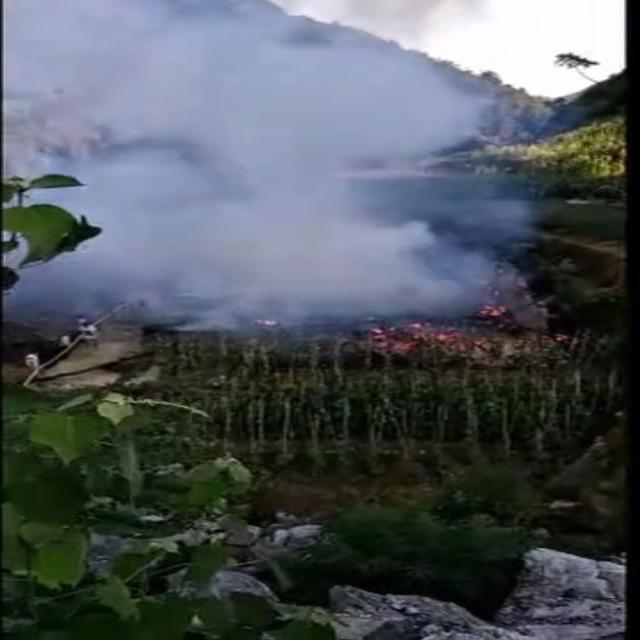Smoke: (2, 1, 540, 334)
